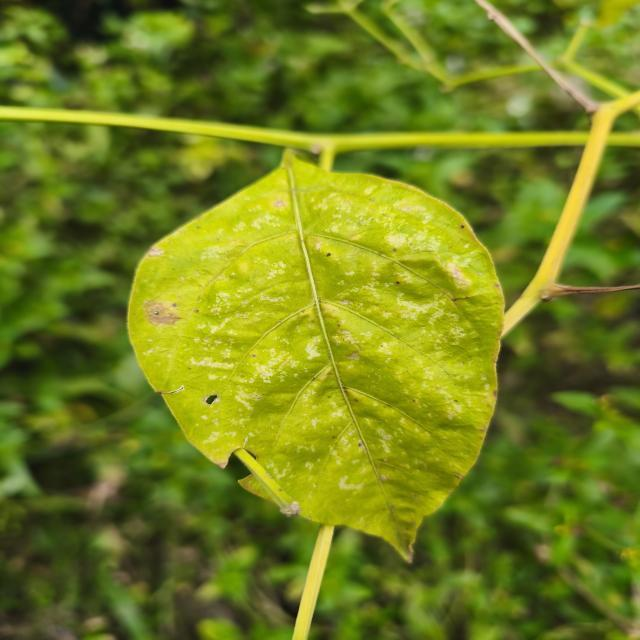Virus Kuning: (126, 146, 507, 564)
